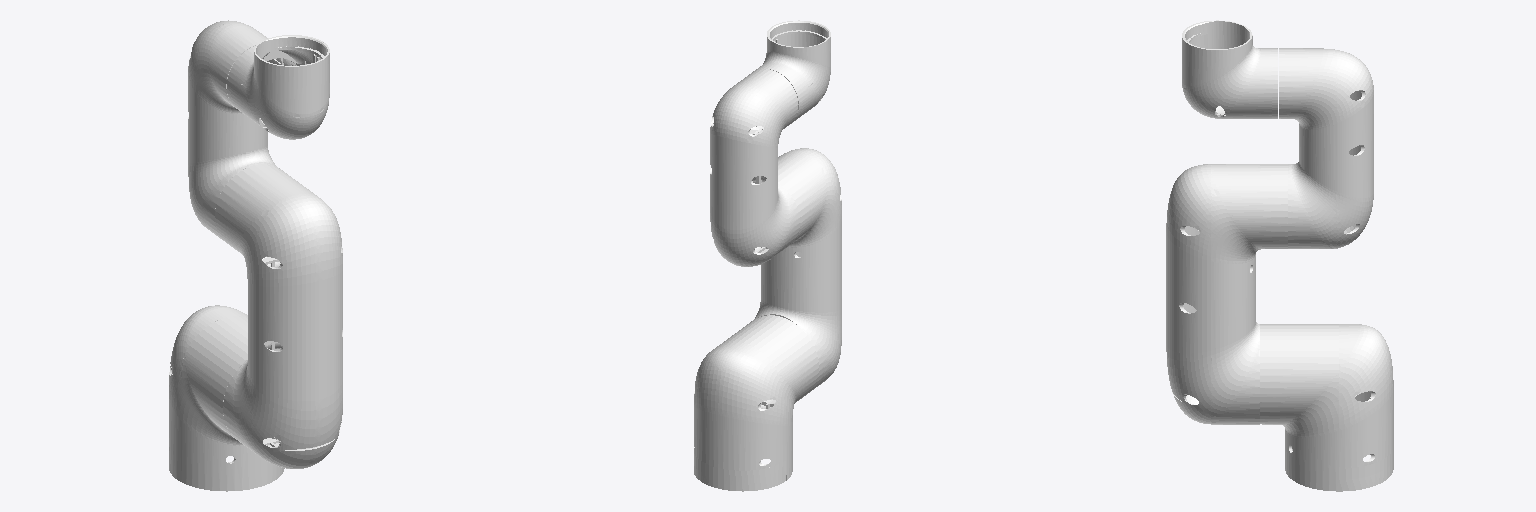
robot.urdf — mycobot_pro:
<?xml version="1.0" ?>
<!-- =================================================================================== -->
<!-- |    This document was autogenerated by xacro from [local-path]/Desktop/PipetteDetect/catkin_ws/src/mycobot_320_moveit/urdf/mycobot_pro.urdf.xacro | -->
<!-- |    EDITING THIS FILE BY HAND IS NOT RECOMMENDED                                 | -->
<!-- =================================================================================== -->
<robot name="mycobot_pro">
    <link name="world" />
    <joint name="world2base" type="fixed">
        <parent link="world" />
        <child link="base_link" />
    </joint>
    <link name="base_link">
        <visual>
            <geometry>
                <mesh filename="package://mycobot_320_moveit/urdf/320_urdf/base.dae" />
            </geometry>
            <origin rpy=" 0 0 3.1415926" xyz="0 0 0 " />
        </visual>
        <collision>
            <origin rpy=" 0 0 3.1415926" xyz="0 0 0.05 " />
            <geometry>
                <cylinder length="0.100" radius="0.0725" />
            </geometry>
        </collision>
        <inertial>
            <mass value="1.0" />
            <inertia ixx="0.00218" ixy="0.0" ixz="0.0" iyy="0.00218" iyz="0.0" izz="0.00263" />
            <origin xyz="0 0 0" rpy="0 0 0" />
        </inertial>
    </link>
    <link name="link1">
        <visual>
            <geometry>
                <mesh filename="package://mycobot_320_moveit/urdf/320_urdf/link1_1.dae" />
            </geometry>
            <origin rpy=" 0 0 0" xyz="0 0 0 " />
        </visual>
        <collision>
            <origin rpy=" 0 0 0" xyz="0 0 -0.02 " />
            <geometry>
                <cylinder length="0.106" radius="0.043" />
            </geometry>
        </collision>
        <inertial>
            <mass value="0.5" />
            <inertia ixx="0.00070" ixy="0.0" ixz="0.0" iyy="0.00070" iyz="0.0" izz="0.00046" />
            <origin xyz="0 0 0" rpy="0 0 0" />
        </inertial>
    </link>
    <link name="link2">
        <visual>
            <geometry>
                <mesh filename="package://mycobot_320_moveit/urdf/320_urdf/link2.dae" />
            </geometry>
            <origin rpy=" 0 0 3.1415926" xyz="0 0 0.0587 " />
        </visual>
        <collision>
            <origin rpy="0 -1.5708 0" xyz="0.07 0 0.095 " />
            <geometry>
                <cylinder length="0.18" radius="0.036" />
            </geometry>
        </collision>
        <inertial>
            <mass value="0.7" />
            <inertia ixx="0.00212" ixy="0.0" ixz="0.0" iyy="0.00212" iyz="0.0" izz="0.00045" />
            <origin xyz="0 0 0" rpy="0 0 0" />
        </inertial>
    </link>
    <link name="link3">
        <visual>
            <geometry>
                <mesh filename="package://mycobot_320_moveit/urdf/320_urdf/link3.dae" />
            </geometry>
            <origin rpy=" 0 0 3.1415926" xyz="0 0 0.038 " />
        </visual>
        <collision>
            <origin rpy=" 0 -1.5708 0" xyz="0.044 0 0 " />
            <geometry>
                <cylinder length="0.14" radius="0.0305" />
            </geometry>
        </collision>
        <inertial>
            <mass value="0.5" />
            <inertia ixx="0.00093" ixy="0.0" ixz="0.0" iyy="0.00093" iyz="0.0" izz="0.00023" />
            <origin xyz="0 0 0" rpy="0 0 0" />
        </inertial>
    </link>
    <link name="link4">
        <visual>
            <geometry>
                <mesh filename="package://mycobot_320_moveit/urdf/320_urdf/link4.dae" />
            </geometry>
            <origin rpy=" 0 0 0" xyz="0 -0.001 0 " />
        </visual>
        <collision>
            <origin rpy=" 0 -1.5708 1.5708" xyz="0.0 -0.014 0 " />
            <geometry>
                <cylinder length="0.083" radius="0.029" />
            </geometry>
        </collision>
        <inertial>
            <mass value="0.2" />
            <inertia ixx="0.00016" ixy="0.0" ixz="0.0" iyy="0.00016" iyz="0.0" izz="0.00008" />
            <origin xyz="0 0 0" rpy="0 0 0" />
        </inertial>
    </link>
    <link name="link5">
        <visual>
            <geometry>
                <mesh filename="package://mycobot_320_moveit/urdf/320_urdf/link5.dae" />
            </geometry>
            <origin rpy=" 0  0 3.1415926" xyz="0 0.002  0 " />
        </visual>
        <collision>
            <origin rpy=" 1.5708 1.5708 0" xyz="0 -0.01 0 " />
            <geometry>
                <cylinder length="0.0849" radius="0.029" />
            </geometry>
        </collision>
        <inertial>
            <mass value="0.2" />
            <inertia ixx="0.00016" ixy="0.0" ixz="0.0" iyy="0.00016" iyz="0.0" izz="0.00008" />
            <origin xyz="0 0 0" rpy="0 0 0" />
        </inertial>
    </link>
    <link name="link6">
        <visual>
            <geometry>
                <mesh filename="package://mycobot_320_moveit/urdf/320_urdf/link6.dae" />
            </geometry>
            <material name="grey">
                <color rgba="0.5 0.5 0.5 1" />
            </material>
            <origin rpy=" 0 1.5708 0" xyz="-0.502 -0.090 -0.096 " />
        </visual>
        <collision>
            <origin rpy=" 0 0 0" xyz="0.0 0 -0.01 " />
            <geometry>
                <cylinder length="0.0225" radius="0.026" />
            </geometry>
        </collision>
        <inertial>
            <mass value="0.2" />
            <inertia ixx="0.00002" ixy="0.0" ixz="0.0" iyy="0.00002" iyz="0.0" izz="0.00003" />
            <origin xyz="0 0 0" rpy="0 0 0" />
        </inertial>
    </link>
    <joint name="arm_joint_0" type="revolute">
        <axis xyz="0 0 1" />
        <limit effort="100.0" lower="-3.14" upper="3.14159" velocity="5" />
        <parent link="base_link" />
        <child link="link1" />
        <origin rpy="0 0 0" xyz="0 0 0.17846" />
    </joint>
    <joint name="arm_joint_1" type="revolute">
        <axis xyz="0 0 1" />
        <limit effort="100.0" lower="-3.14" upper="3.14159" velocity="5" />
        <parent link="link1" />
        <child link="link2" />
        <origin rpy="0 -1.5708 1.5708" xyz="0 0 0" />
    </joint>
    <joint name="arm_joint_2" type="revolute">
        <axis xyz=" 0 0 1" />
        <limit effort="100.0" lower="-3.14" upper="3.14159" velocity="5" />
        <parent link="link2" />
        <child link="link3" />
        <origin rpy="0 0 0" xyz="0.13635 0 0   " />
    </joint>
    <joint name="arm_joint_3" type="revolute">
        <axis xyz=" 0 0 1" />
        <limit effort="100.0" lower="-3.14" upper="3.14159" velocity="5" />
        <parent link="link3" />
        <child link="link4" />
        <origin rpy=" 0 0 1.57080" xyz="0.1 0 0.09 " />
    </joint>
    <joint name="arm_joint_4" type="revolute">
        <axis xyz="0 0 1" />
        <limit effort="100.0" lower="-3.14" upper="3.14159" velocity="5" />
        <parent link="link4" />
        <child link="link5" />
        <origin rpy="1.5708 -1.5708 0" xyz="0 -0.07318 0" />
    </joint>
    <joint name="arm_joint_5" type="revolute">
        <axis xyz="0 0 1" />
        <limit effort="100.0" lower="-3.14" upper="3.14159" velocity="5" />
        <parent link="link5" />
        <child link="link6" />
        <origin rpy="-1.5708 0 0" xyz="0.00 0.06635 0" />
    </joint>
    <transmission name="arm_tran_0">
        <type>transmission_interface/SimpleTransmission</type>
        <joint name="arm_joint_0">
            <hardwareInterface>hardware_interface/PositionJointInterface</hardwareInterface>
        </joint>
        <actuator name="arm_motor_0">
            <hardwareInterface>PositionJointInterface</hardwareInterface>
            <mechanicalReduction>1</mechanicalReduction>
        </actuator>
    </transmission>
    <transmission name="arm_tran_1">
        <type>transmission_interface/SimpleTransmission</type>
        <joint name="arm_joint_1">
            <hardwareInterface>hardware_interface/PositionJointInterface</hardwareInterface>
        </joint>
        <actuator name="arm_motor_1">
            <hardwareInterface>PositionJointInterface</hardwareInterface>
            <mechanicalReduction>1</mechanicalReduction>
        </actuator>
    </transmission>
    <transmission name="arm_tran_2">
        <type>transmission_interface/SimpleTransmission</type>
        <joint name="arm_joint_2">
            <hardwareInterface>hardware_interface/PositionJointInterface</hardwareInterface>
        </joint>
        <actuator name="arm_motor_2">
            <hardwareInterface>PositionJointInterface</hardwareInterface>
            <mechanicalReduction>1</mechanicalReduction>
        </actuator>
    </transmission>
    <transmission name="arm_tran_3">
        <type>transmission_interface/SimpleTransmission</type>
        <joint name="arm_joint_3">
            <hardwareInterface>hardware_interface/PositionJointInterface</hardwareInterface>
        </joint>
        <actuator name="arm_motor_3">
            <hardwareInterface>PositionJointInterface</hardwareInterface>
            <mechanicalReduction>1</mechanicalReduction>
        </actuator>
    </transmission>
    <transmission name="arm_tran_4">
        <type>transmission_interface/SimpleTransmission</type>
        <joint name="arm_joint_4">
            <hardwareInterface>hardware_interface/PositionJointInterface</hardwareInterface>
        </joint>
        <actuator name="arm_motor_4">
            <hardwareInterface>PositionJointInterface</hardwareInterface>
            <mechanicalReduction>1</mechanicalReduction>
        </actuator>
    </transmission>
    <transmission name="arm_tran_5">
        <type>transmission_interface/SimpleTransmission</type>
        <joint name="arm_joint_5">
            <hardwareInterface>hardware_interface/PositionJointInterface</hardwareInterface>
        </joint>
        <actuator name="arm_motor_5">
            <hardwareInterface>PositionJointInterface</hardwareInterface>
            <mechanicalReduction>1</mechanicalReduction>
        </actuator>
    </transmission>
    <!--ros_control
  plugin-->
    <gazebo>
        <plugin filename="libgazebo_ros_control.so" name="gazebo_ros_control">
            <robotNamespace>/robot_b</robotNamespace>
        </plugin>
    </gazebo>
    <!--joint_state_publisher
  plugin-->
    <gazebo>
        <plugin filename="libgazebo_ros_joint_state_publisher.so" name="joint_state_publisher">
            <jointName>arm_joint_0, arm_joint_1, arm_joint_2, arm_joint_3, arm_joint_4, arm_joint_5</jointName>
        </plugin>
    </gazebo>
</robot>

--- Facts derived from the render (not from the file) ---
3 views of the same robot in one strip: view 1: azimuth 30°, elevation 25°; view 2: azimuth 150°, elevation 25°; view 3: azimuth 270°, elevation 25° (orthographic).
Robot: mycobot_pro — 8 links, 7 joints (6 revolute, 1 fixed); root link world; default pose: all joints at 0.
Links seen in each view (by area): view 1: link2, link1, link3, link4; view 2: link1, link3, link2, link4; view 3: link2, link1, link3, link4.
Link boxes in pixels (x1,y1,x2,y2): link2: (215, 164, 342, 468); link1: (169, 305, 284, 491); link3: (188, 20, 287, 240); link4: (227, 35, 329, 139); link1: (694, 315, 818, 491); link3: (710, 69, 799, 266); link2: (751, 148, 841, 392); link4: (753, 20, 830, 123); link2: (1166, 164, 1287, 424); link1: (1260, 324, 1393, 491); link3: (1279, 48, 1373, 248); link4: (1182, 20, 1277, 118).
Bounding box of the posed robot: 0.08 × 0.1675 × 0.3523 m (x, y, z).
4 mesh visuals loaded from 7 distinct referenced files (4 Collada DAE); not drawn: 3 (reference not matched to a file when rendering).